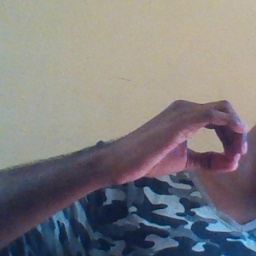O: (137, 90, 250, 187)
